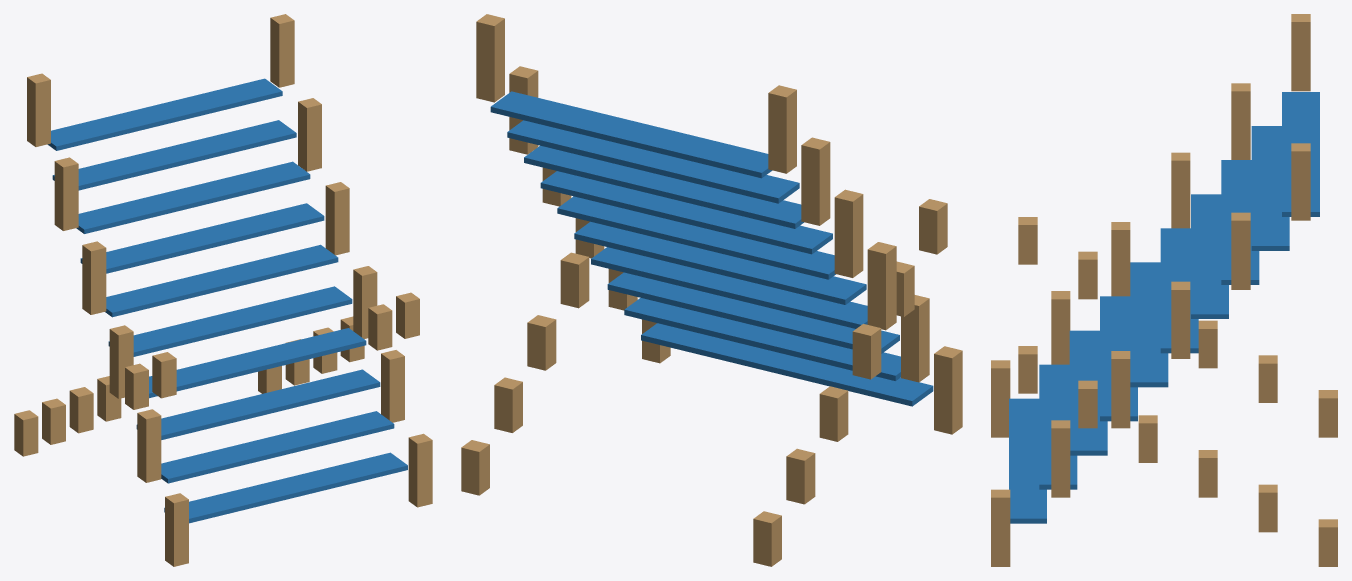
File: deck_chair.glb
3 renders of one model, left to right at view 1: azimuth 30°, elevation 25°; view 2: azimuth 150°, elevation 25°; view 3: azimuth 270°, elevation 25°, orthographic. The views are drawn at different scales.
Parts seen in each view (by area): view 1: deck_chair; view 2: deck_chair; view 3: deck_chair.
Part boxes in pixels (x1,y1,x2,y2): deck_chair: [14, 14, 432, 566]; deck_chair: [461, 14, 962, 566]; deck_chair: [991, 14, 1337, 566].
Size of the model in its own units: 0.595 by 0.84 by 0.635.
